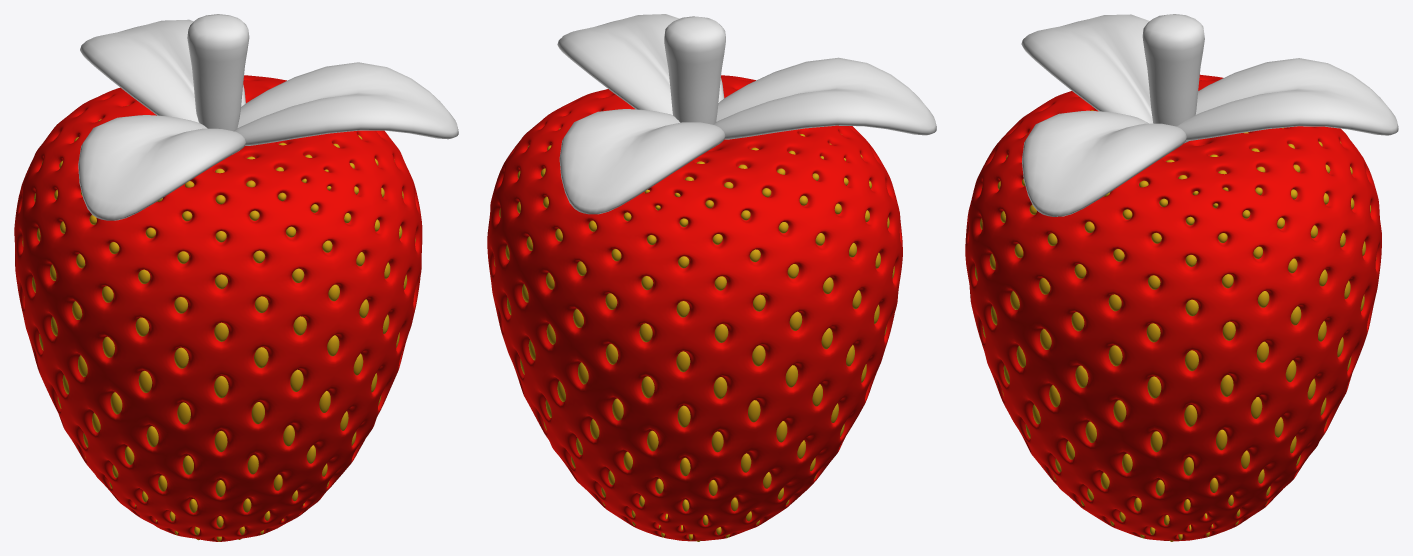
The model's file is strawberry.fbx.
The picture shows the model from 3 angles, left to right: view 1: azimuth 30°, elevation 25°; view 2: azimuth 150°, elevation 25°; view 3: azimuth 270°, elevation 25°; orthographic projection.
Parts seen in each view (by area): view 1: Maduixa; view 2: Maduixa; view 3: Maduixa.
Boxes of the visible parts, box(x1,y1,x2,y2) form: Maduixa: box(14, 14, 458, 541); Maduixa: box(487, 14, 936, 541); Maduixa: box(965, 14, 1398, 541).
Size of the model in its own units: 126 by 168 by 130.
